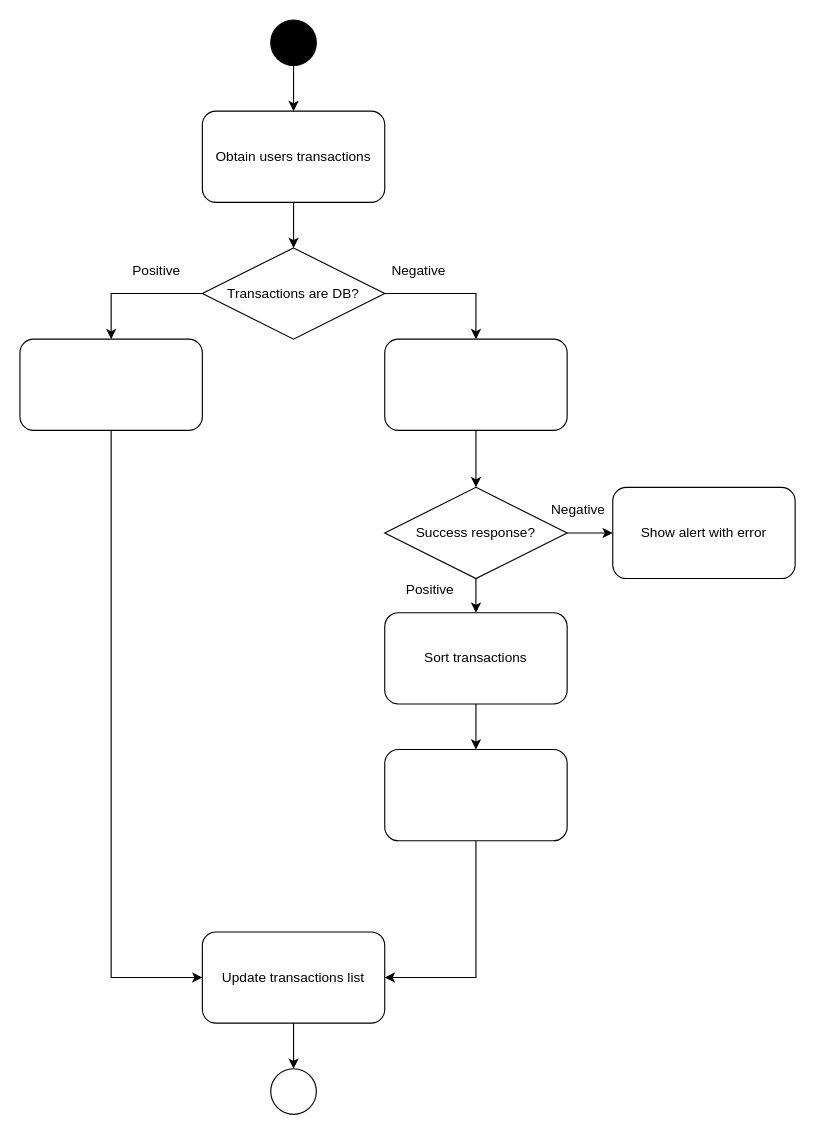
Some shapes in this 815 by 1134 pixel diagram are drawn without their labels. The centre of each missing label's shape, as x and y in pixels:
Fetch from DB: the point at 110,384
Save into DB: the point at 475,794
Send request: the point at 475,384
